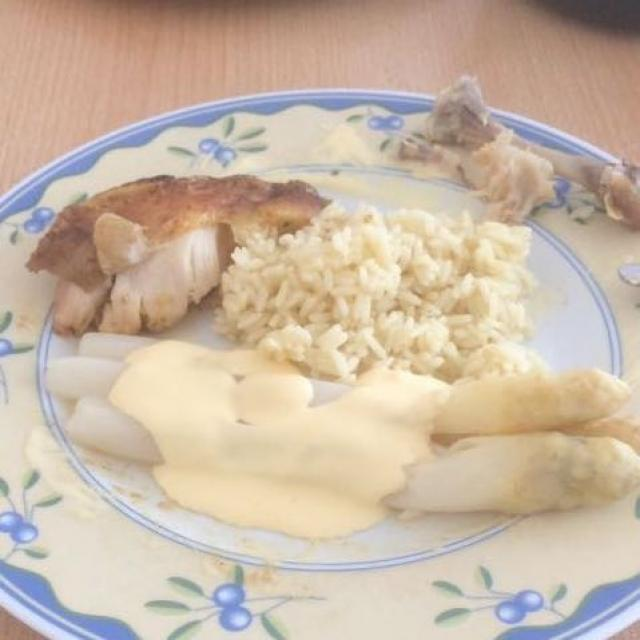asparagus: (71, 322, 633, 554)
chicken-breast: (31, 181, 334, 344)
rice: (216, 214, 531, 377)
